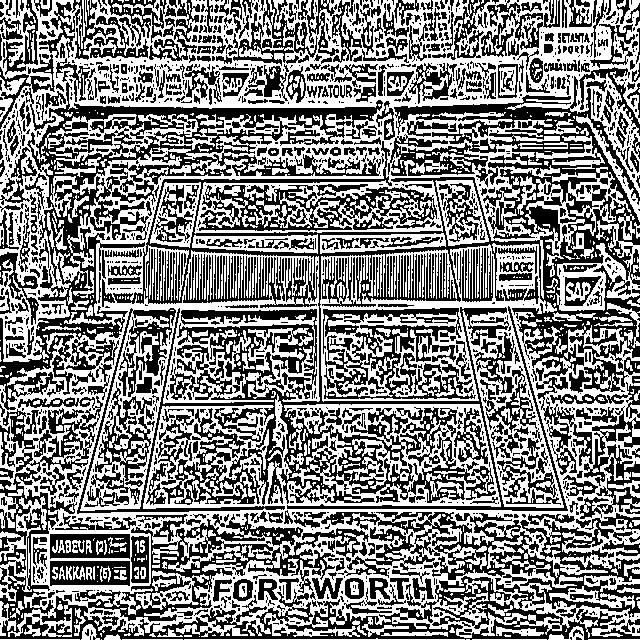left side: (433, 177, 566, 509), (77, 180, 203, 511)
player: (259, 394, 293, 526), (374, 96, 402, 188)
